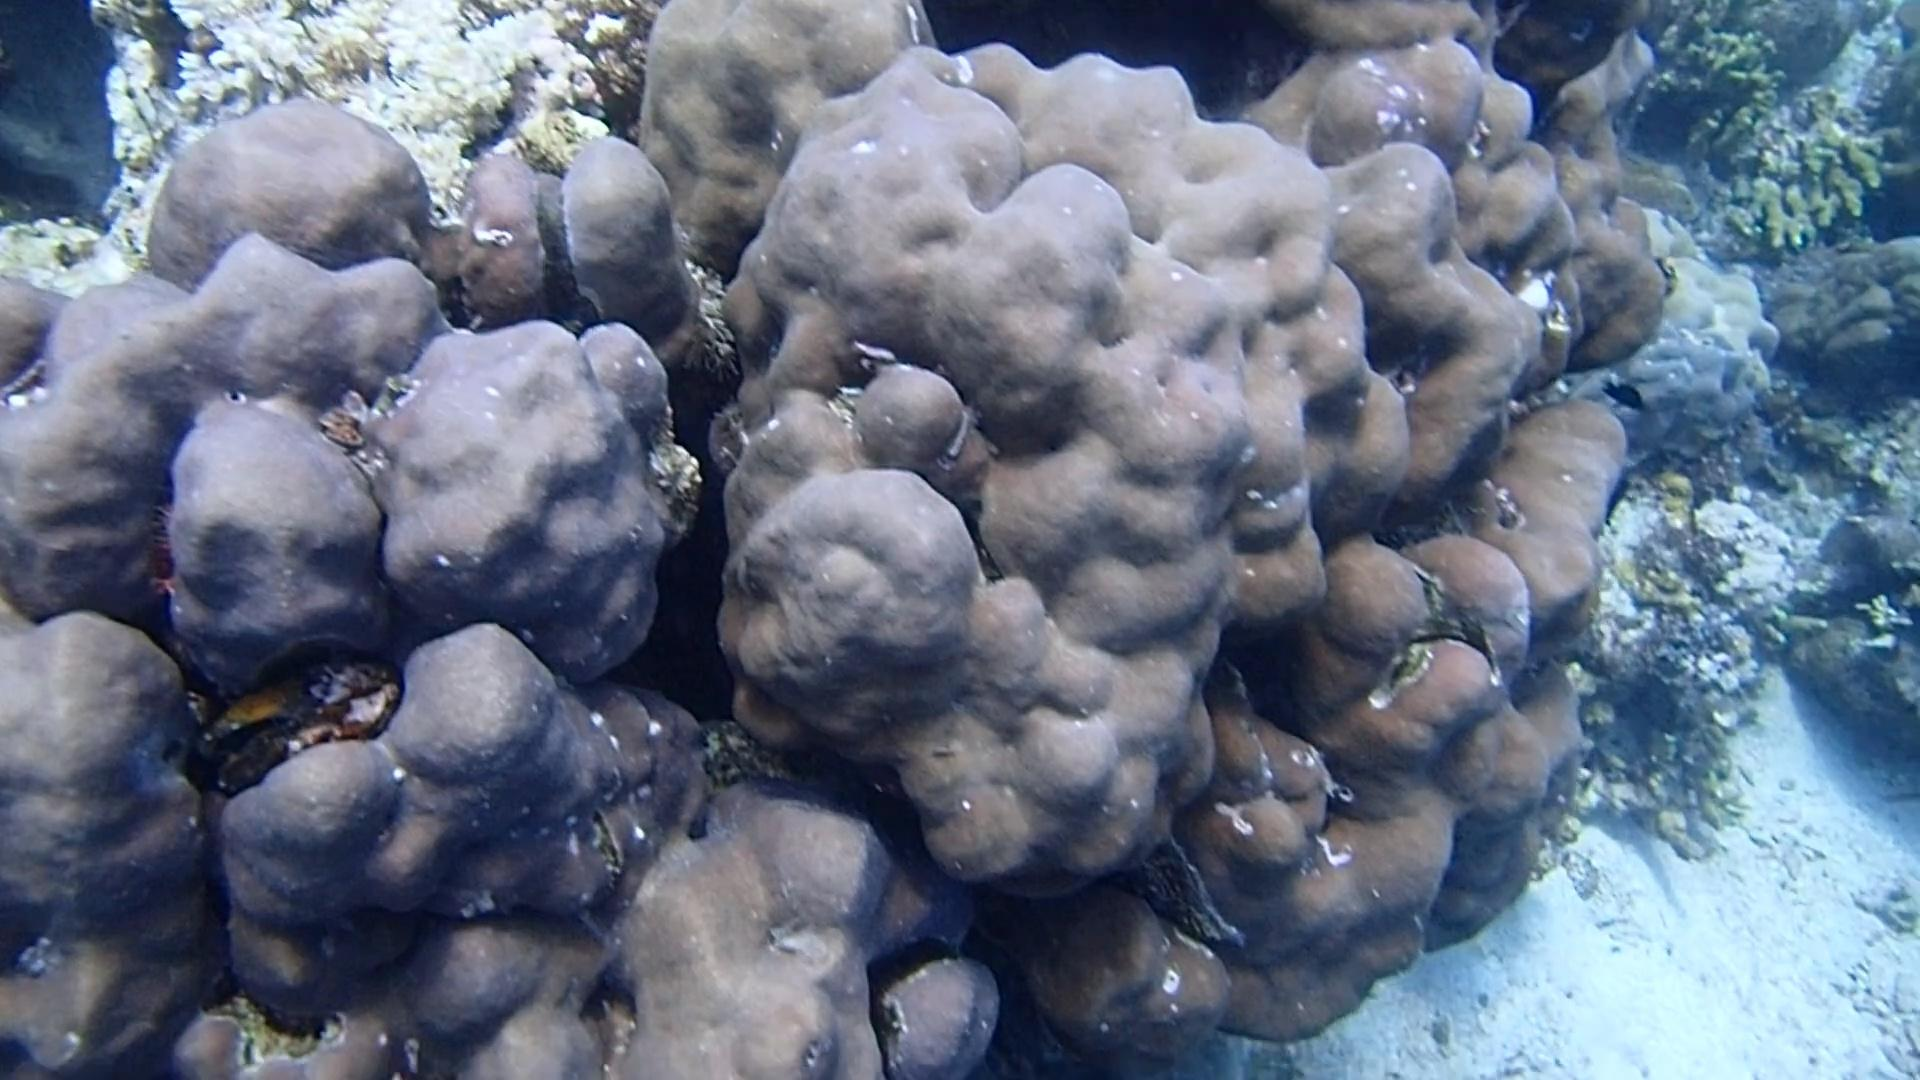Dark Fish: (1598, 373, 1647, 421)
